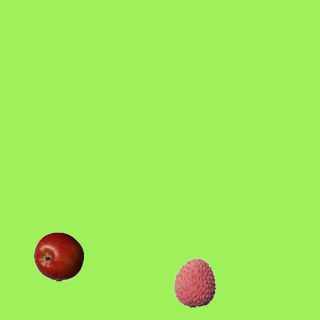Apple Braeburn: (33, 231, 83, 281)
Lychee: (169, 257, 219, 307)
